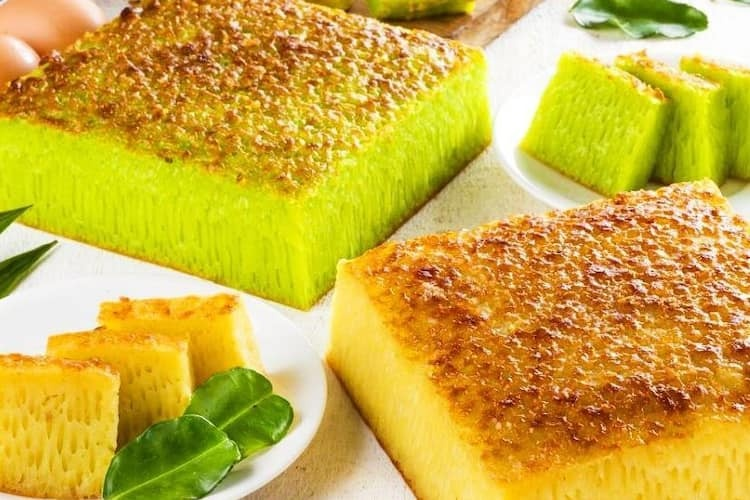bika_ambon: (518, 44, 655, 200)
